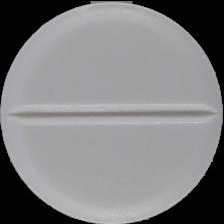69189-4022: (0, 0, 224, 224)
